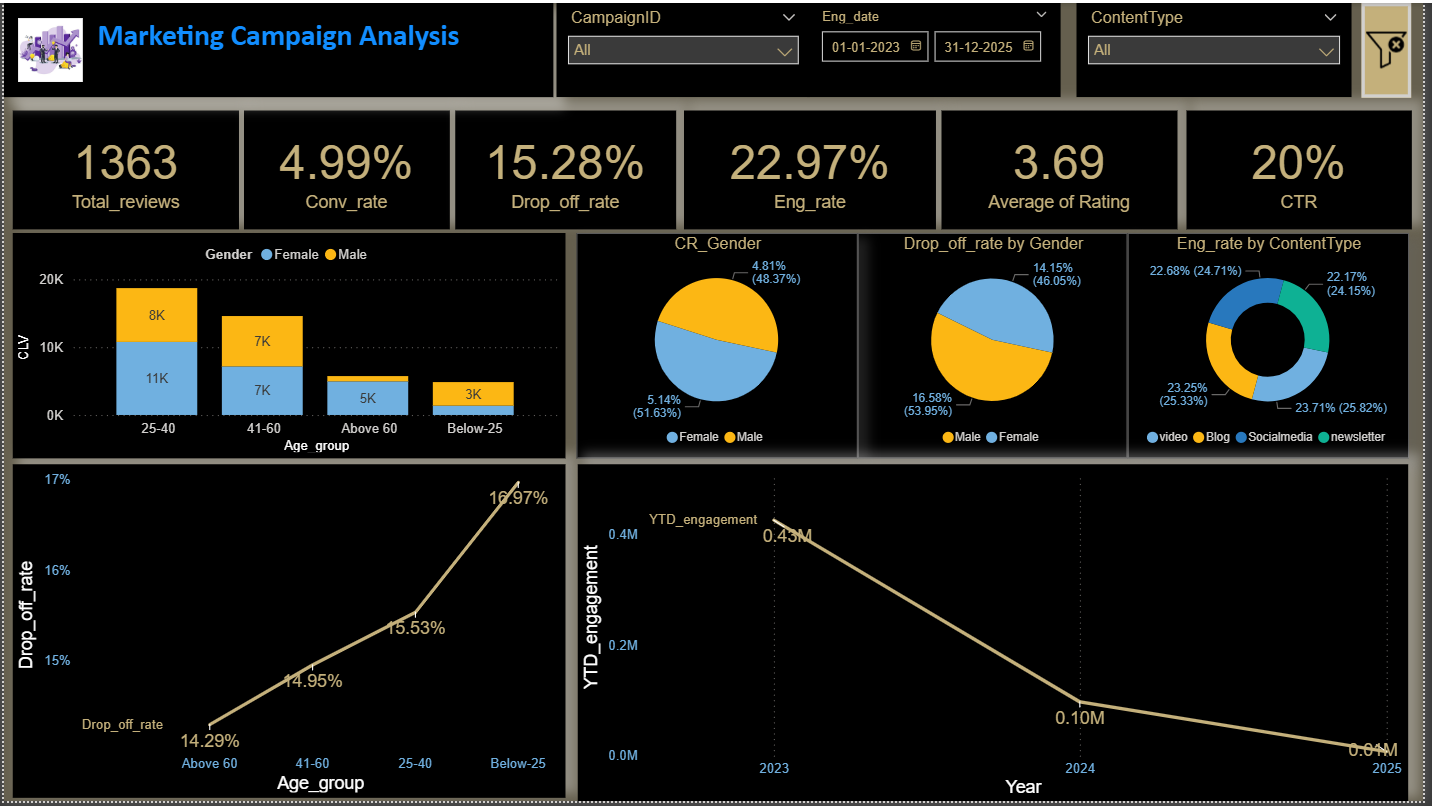

The dashboard page shown, as its layout file describes it:
{"tool":"powerbi","page":{"name":"Dashboard","canvas":[1280,720],"ordinal":0},"visuals":[{"type":"card","fields":{"Values":["Cust_review.Total_reviews"]},"box":[8.2,96.7,204.3,107.6],"z":0},{"type":"card","fields":{"Values":["customer_journey.Conv_rate"]},"box":[216.6,96.7,185.2,107.6],"z":1000},{"type":"card","fields":{"Values":["Countries.Drop_off_rate"]},"box":[407.2,96.7,198.9,107.6],"z":2000},{"type":"card","fields":{"Values":["Countries.Eng_rate"]},"box":[612.9,96.7,227.5,107.6],"z":3000},{"type":"card","fields":{"Values":["Avg(Cust_review.Rating)"]},"box":[845.8,96.7,212.5,107.6],"z":4000},{"type":"lineChart","fields":{"Y":["Countries.Drop_off_rate"],"Category":["Customers.Age_group"]},"box":[8.4,415.6,498.1,300.8],"z":5000},{"type":"card","fields":{"Values":["Countries.CTR"]},"box":[1066.4,96.7,202.9,107.6],"z":6000},{"type":"textbox","box":[0,0,495.4,84.9],"z":7000},{"type":"pieChart","fields":{"Y":["Countries.Drop_off_rate"],"Category":["Customers.Gender"]},"box":[770,207.1,243.5,203.2],"z":8000},{"type":"pieChart","title":"CR_Gender","fields":{"Category":["Customers.Gender"],"Y":["customer_journey.Conv_rate"]},"box":[516.7,207.1,253.3,203.2],"z":9000},{"type":"donutChart","fields":{"Y":["Countries.Eng_rate"],"Category":["Engagement_data.ContentType"]},"box":[1013.5,207.1,253.3,203.2],"z":10000},{"type":"image","box":[8.3,0,68.2,84.9],"z":11000},{"type":"slicer","fields":{"Values":["Engagement_data.CampaignID"]},"box":[498.2,0,228.2,84.9],"z":12000},{"type":"slicer","fields":{"Values":["Engagement_data.Eng_date"]},"box":[725,0,228.2,84.9],"z":13000},{"type":"slicer","fields":{"Values":["Engagement_data.ContentType"]},"box":[967.2,0,247.7,84.9],"z":14000},{"type":"lineChart","fields":{"Y":["Engagement_data.YTD_engagement"],"Category":["Engagement_data.Eng_date.Variation.Date Hierarchy.Year"]},"box":[517.7,415.6,748.6,305],"z":15000},{"type":"columnChart","fields":{"Category":["Customers.Age_group"],"Y":["Sum(Customers.CLV)"],"Series":["Customers.Gender"]},"box":[8.4,207.1,498.1,202.9],"z":16000},{"type":"actionButton","box":[1224.3,0,44.8,85.4],"z":17000}]}

Visuals, with their boxes in screenshot pixels (x1, y1, x2, y2), scaled from the page's 1280x720 canvas onto the 1432x806 screenshot:
card - Cust_review.Total_reviews: region(9, 108, 238, 229)
card - customer_journey.Conv_rate: region(242, 108, 450, 229)
card - Countries.Drop_off_rate: region(456, 108, 678, 229)
card - Countries.Eng_rate: region(686, 108, 940, 229)
card - Avg(Cust_review.Rating): region(946, 108, 1184, 229)
lineChart - Countries.Drop_off_rate x Customers.Age_group: region(9, 465, 567, 802)
card - Countries.CTR: region(1193, 108, 1420, 229)
textbox: region(0, 0, 554, 95)
pieChart - Countries.Drop_off_rate x Customers.Gender: region(861, 232, 1134, 459)
"CR_Gender" pieChart: region(578, 232, 861, 459)
donutChart - Countries.Eng_rate x Engagement_data.ContentType: region(1134, 232, 1417, 459)
image: region(9, 0, 86, 95)
slicer - Engagement_data.CampaignID: region(557, 0, 813, 95)
slicer - Engagement_data.Eng_date: region(811, 0, 1066, 95)
slicer - Engagement_data.ContentType: region(1082, 0, 1359, 95)
lineChart - Engagement_data.YTD_engagement x Engagement_data.Eng_date.Variation.Date Hierarchy.Year: region(579, 465, 1417, 805)
columnChart - Customers.Age_group x Sum(Customers.CLV): region(9, 232, 567, 459)
actionButton: region(1370, 0, 1420, 96)
